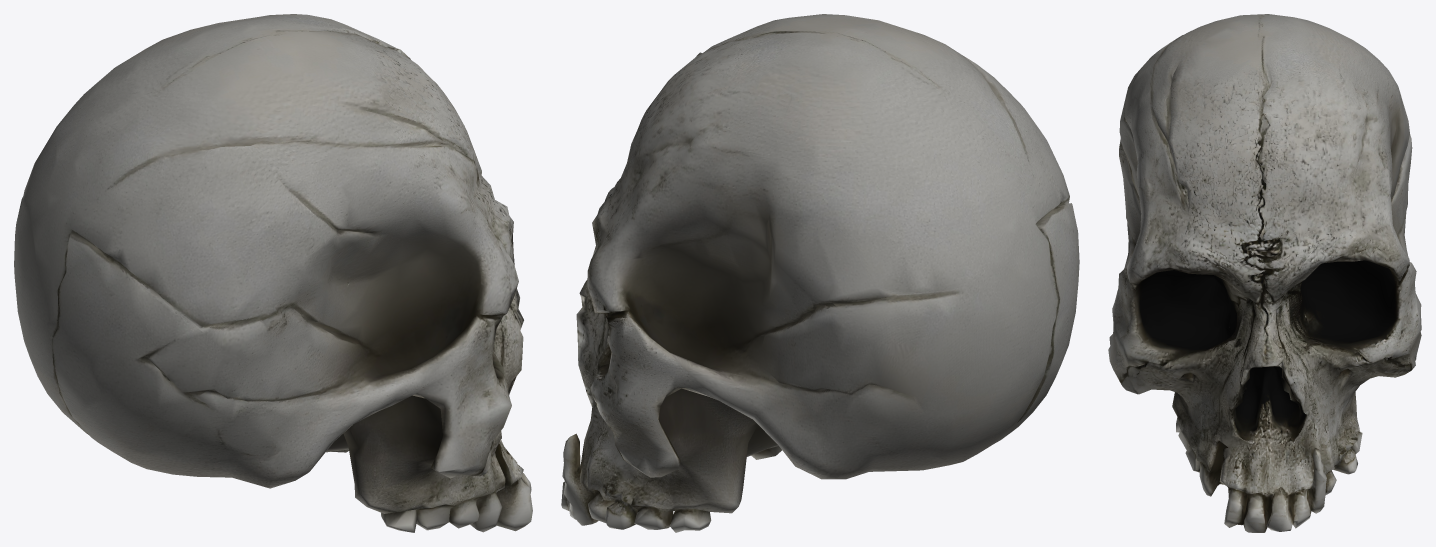
Rendered from skull_worn.glb.
The picture shows the model from 3 angles, left to right: view 1: azimuth 30°, elevation 25°; view 2: azimuth 150°, elevation 25°; view 3: azimuth 270°, elevation 25°; orthographic projection. The views are drawn at different scales.
Parts seen in each view (by area): view 1: tripo_node_40cf6d94-b95e-4626-8b78-c89b5eaa9fd8; view 2: tripo_node_40cf6d94-b95e-4626-8b78-c89b5eaa9fd8; view 3: tripo_node_40cf6d94-b95e-4626-8b78-c89b5eaa9fd8.
Part boxes in pixels (bbox=[...]): tripo_node_40cf6d94-b95e-4626-8b78-c89b5eaa9fd8: bbox=[14, 14, 532, 532]; tripo_node_40cf6d94-b95e-4626-8b78-c89b5eaa9fd8: bbox=[561, 14, 1079, 532]; tripo_node_40cf6d94-b95e-4626-8b78-c89b5eaa9fd8: bbox=[1108, 14, 1421, 532].
Bounding box in the file's own units: 0.936 × 1 × 0.6931.
1 material, 1 textured.
